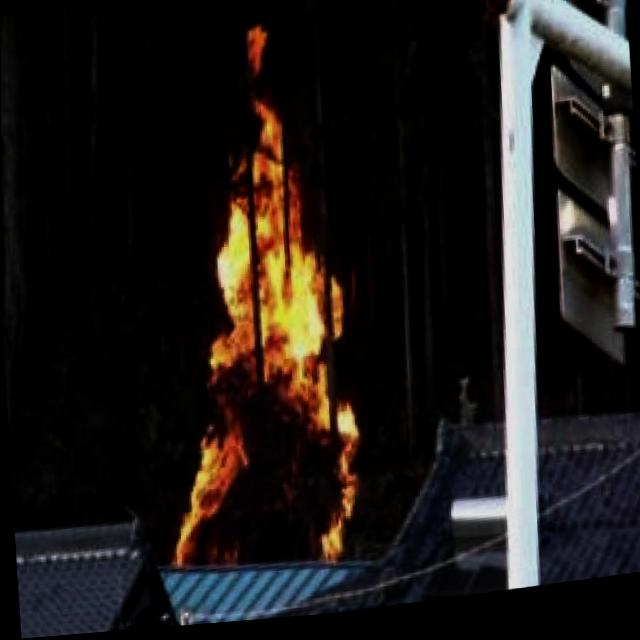Fire: (154, 110, 363, 581)
